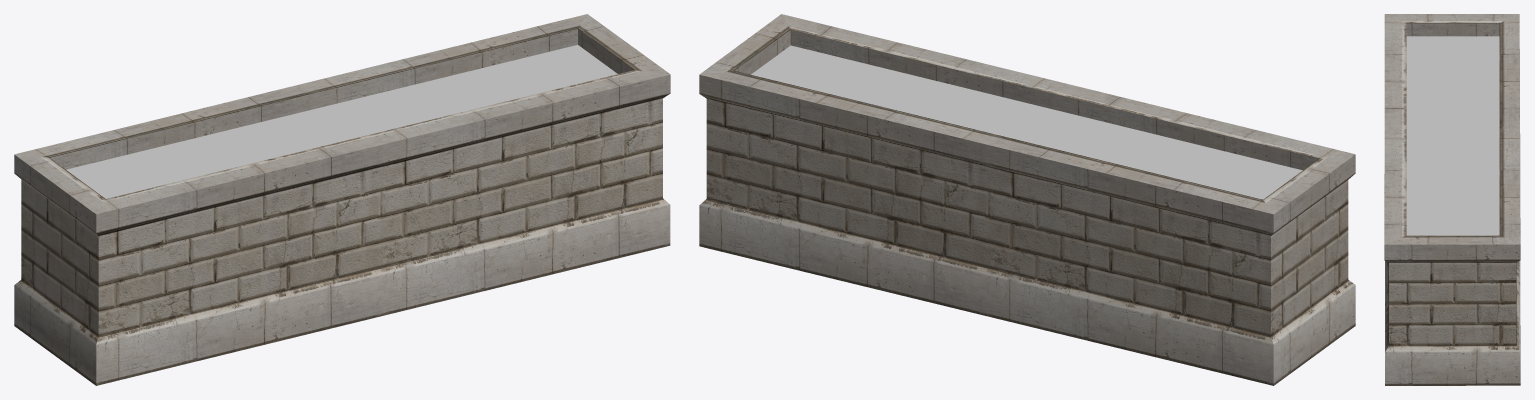
The model's file is Flowerbed_High_2x.FBX.
The picture shows the model from 3 angles, left to right: view 1: azimuth 30°, elevation 25°; view 2: azimuth 150°, elevation 25°; view 3: azimuth 270°, elevation 25°; orthographic projection. The views are drawn at different scales.
Parts seen in each view (by area): view 1: Flowerbed_High_2x; view 2: Flowerbed_High_2x; view 3: Flowerbed_High_2x.
Boxes of the visible parts, x1,y1,x2,y2 form: Flowerbed_High_2x: (14, 14, 670, 385); Flowerbed_High_2x: (699, 14, 1355, 385); Flowerbed_High_2x: (1384, 14, 1520, 385).
Bounding box in the file's own units: 200 × 56.98 × 49.81.
